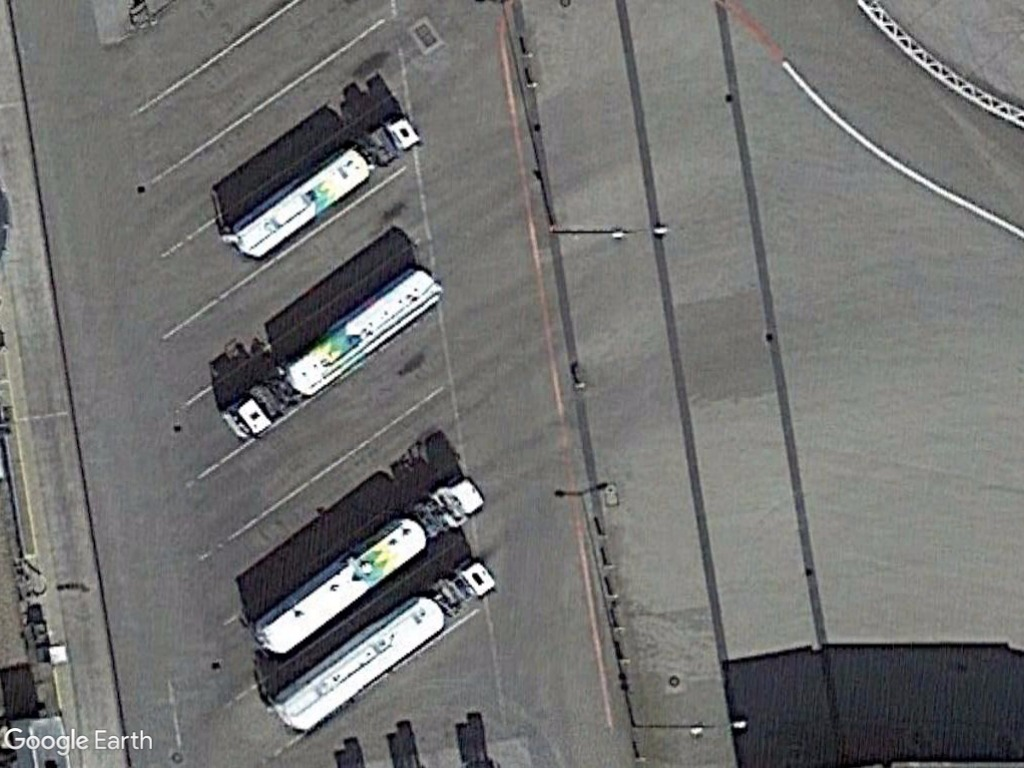longvehicle: (253, 508, 436, 663), (272, 591, 452, 742), (280, 265, 450, 400), (224, 142, 375, 267)
